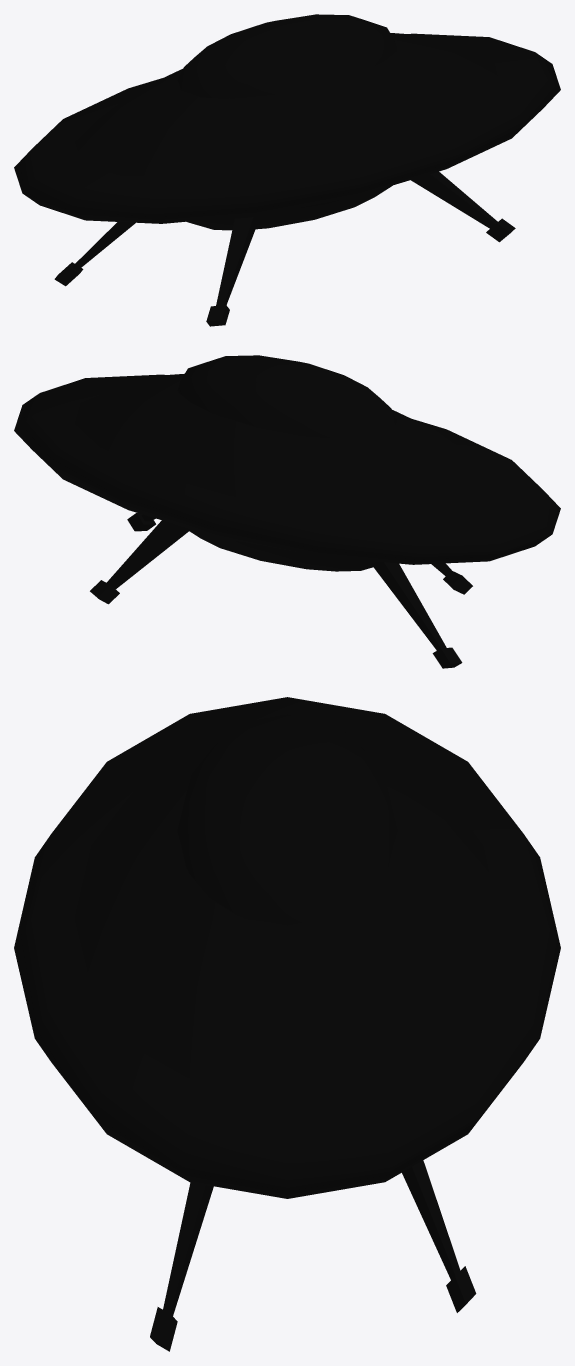
Rendered from FishingShip.glb.
The picture shows the model from 3 angles, top to bottom: view 1: azimuth 30°, elevation 25°; view 2: azimuth 150°, elevation 25°; view 3: azimuth 270°, elevation 25°; orthographic projection. The views are drawn at different scales.
Parts seen in each view (by area): view 1: Mesh.039; view 2: Mesh.039; view 3: Mesh.039.
Part boxes in pixels (x1,y1,x2,y2): Mesh.039: (14,14,560,326); Mesh.039: (14,355,560,668); Mesh.039: (14,697,560,1351).
Size of what is drawn, in the model's own units: 5.95 by 2.5 by 2.9.
Materials: 1 (1 with a texture image).
